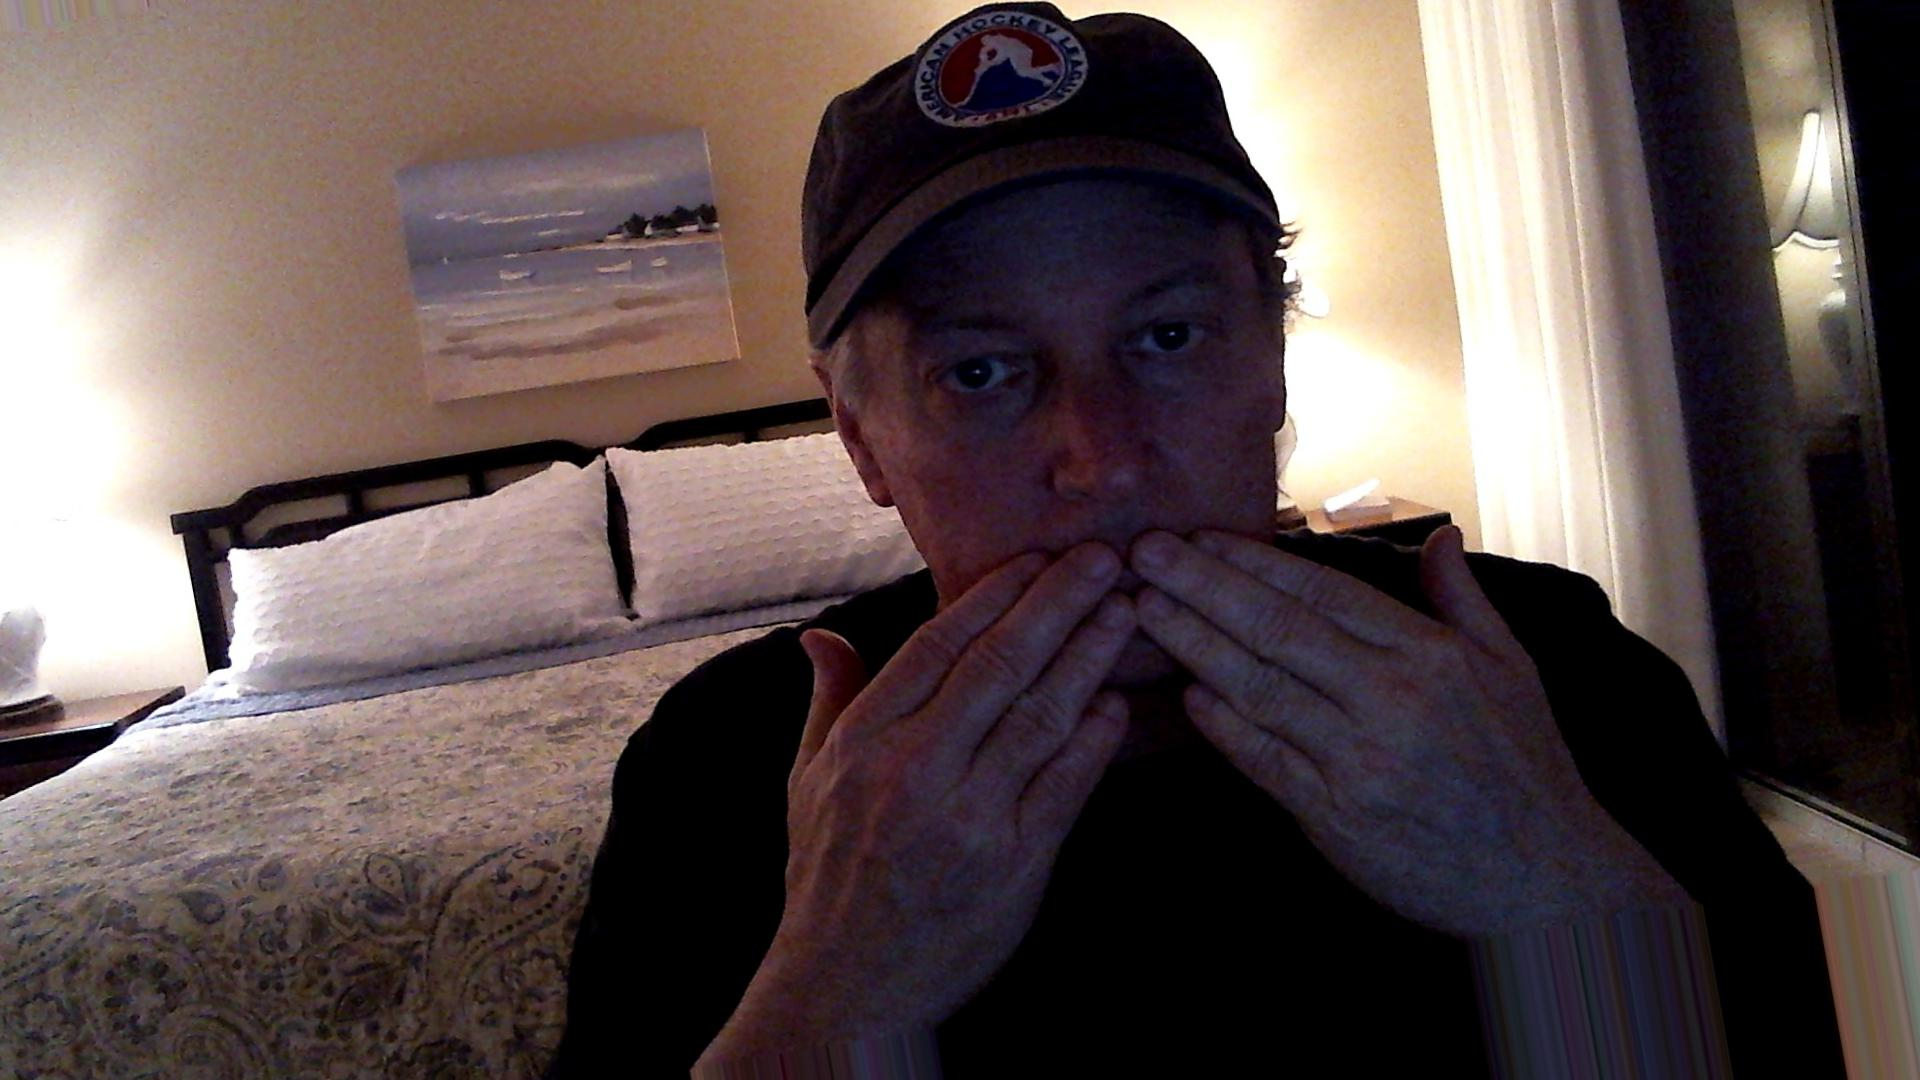Thank You: (667, 514, 1679, 918)
